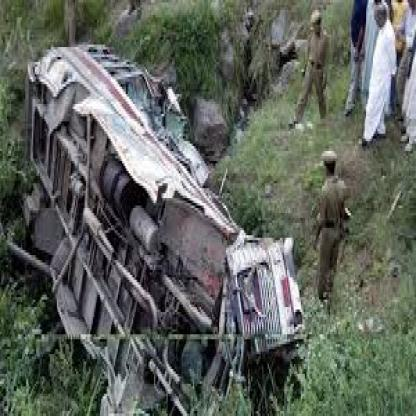accident: (13, 32, 304, 408)
